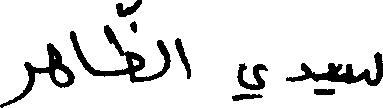X: (107, 0, 142, 87), (0, 57, 32, 107), (347, 47, 382, 90), (49, 26, 71, 92), (234, 58, 264, 105), (75, 28, 92, 79), (316, 58, 335, 99), (288, 58, 309, 86), (178, 33, 188, 83), (159, 35, 168, 81)
